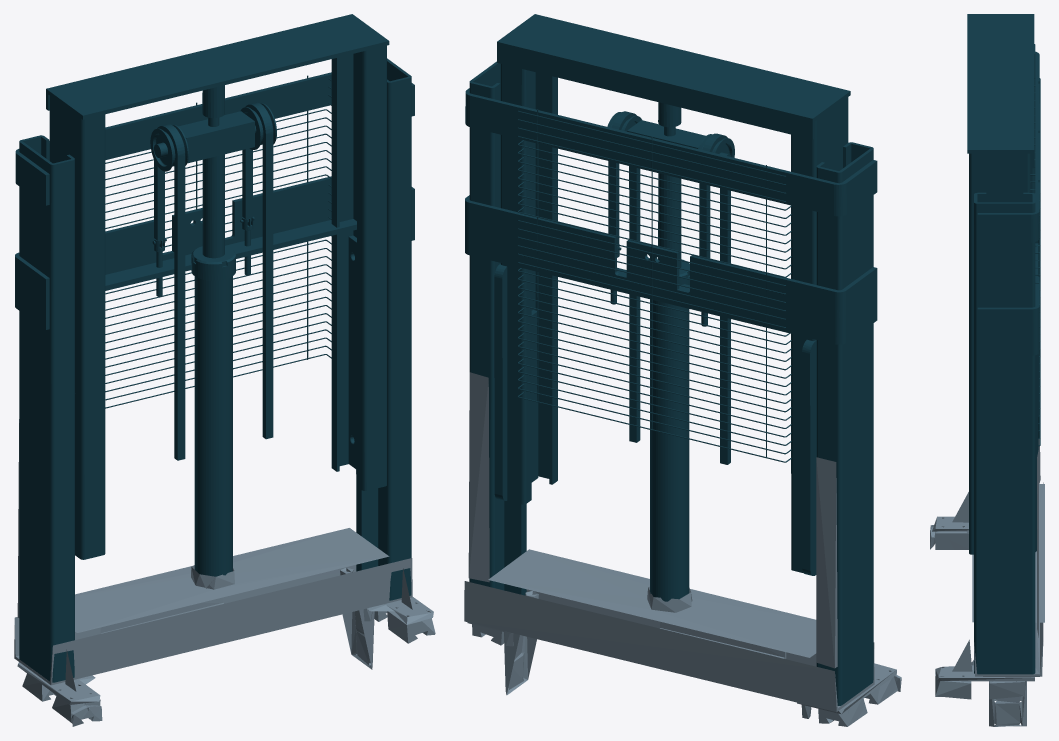
Rendered from mast.dae.
The picture shows the model from 3 angles, left to right: view 1: azimuth 30°, elevation 25°; view 2: azimuth 150°, elevation 25°; view 3: azimuth 270°, elevation 25°; orthographic projection. The views are drawn at different scales.
Parts seen in each view (by area): view 1: node; view 2: node; view 3: node.
Boxes of the visible parts, x1,y1,x2,y2 form: node: [14, 14, 435, 726]; node: [464, 14, 901, 726]; node: [930, 14, 1044, 726].
Size of the model in its own units: 0.7581 by 0.2245 by 1.25.
